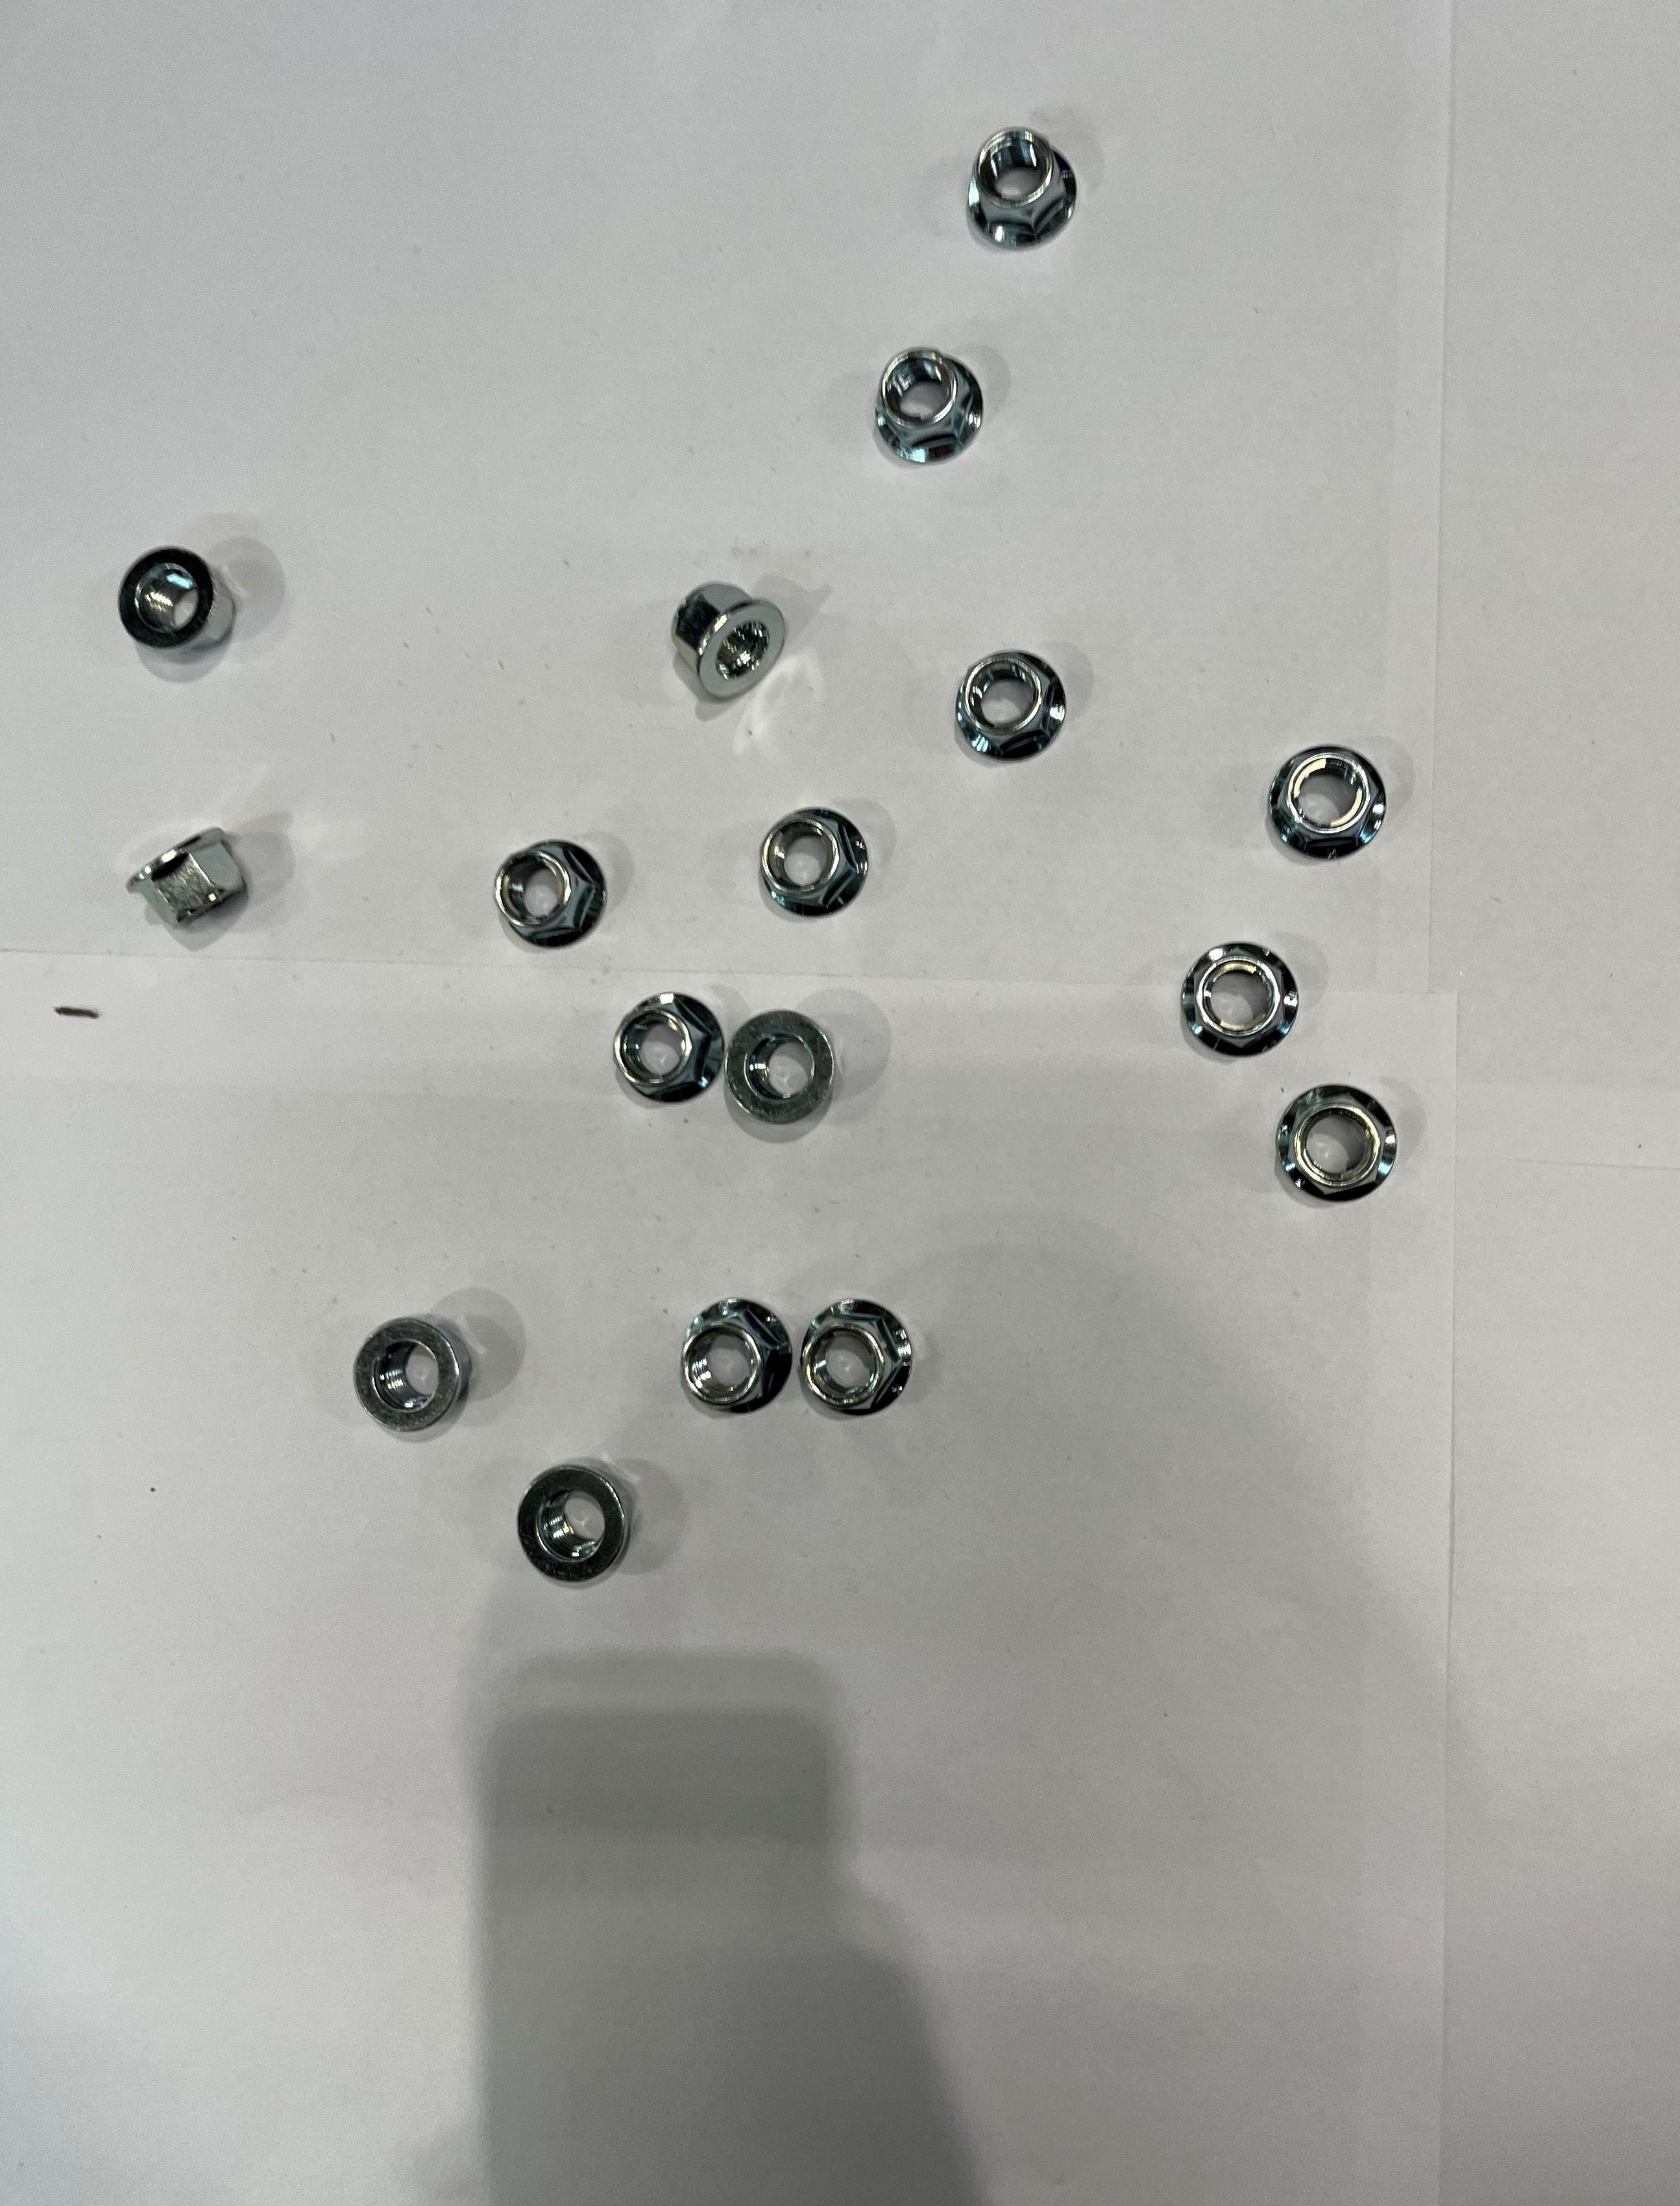Type B: (664, 575, 791, 706), (515, 1456, 635, 1588), (955, 131, 1078, 252), (353, 1318, 475, 1437), (674, 1301, 798, 1417), (498, 831, 612, 957), (881, 342, 983, 482), (754, 803, 872, 923), (113, 544, 240, 655), (1272, 741, 1387, 863), (955, 648, 1069, 766), (127, 828, 252, 935), (612, 990, 724, 1108), (1184, 946, 1299, 1059), (801, 1302, 916, 1415), (1281, 1089, 1392, 1205), (727, 1011, 838, 1126)
